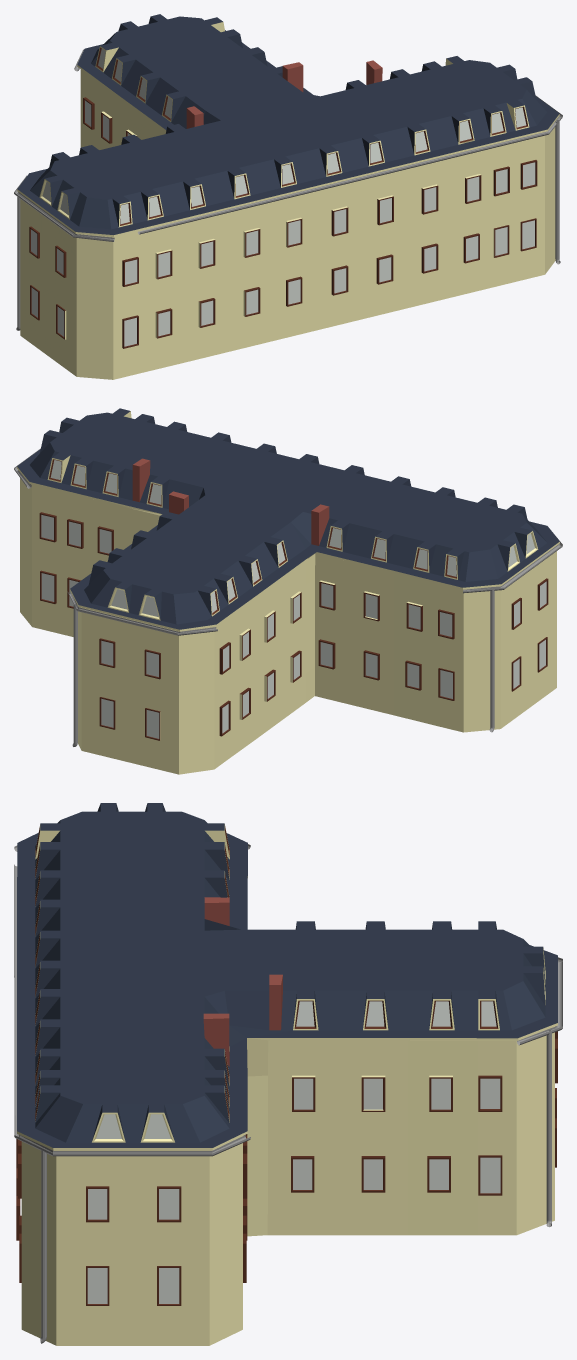
File: house_T.fbx
The picture shows the model from 3 angles, top to bottom: view 1: azimuth 30°, elevation 25°; view 2: azimuth 150°, elevation 25°; view 3: azimuth 270°, elevation 25°; orthographic projection. The views are drawn at different scales.
Visible parts, largest first — view 1: house_T; view 2: house_T; view 3: house_T.
Part boxes in pixels (x1=…): house_T: x1=14, y1=14, x2=562, y2=379; house_T: x1=14, y1=408, x2=562, y2=774; house_T: x1=14, y1=803, x2=562, y2=1345.
Bounding box in the file's own units: 2306 × 818 × 1641.
